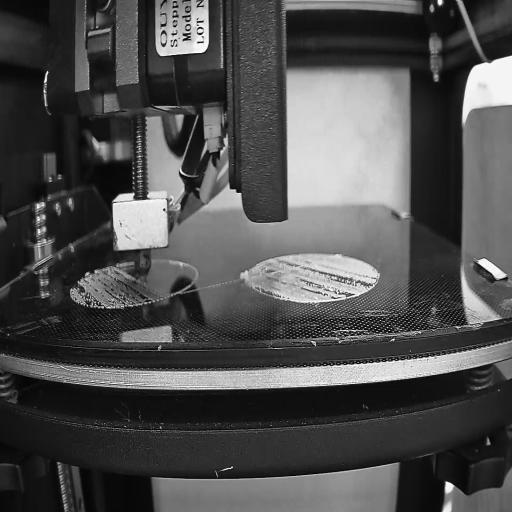under_extrusion: (258, 261, 379, 296), (71, 266, 158, 304)
